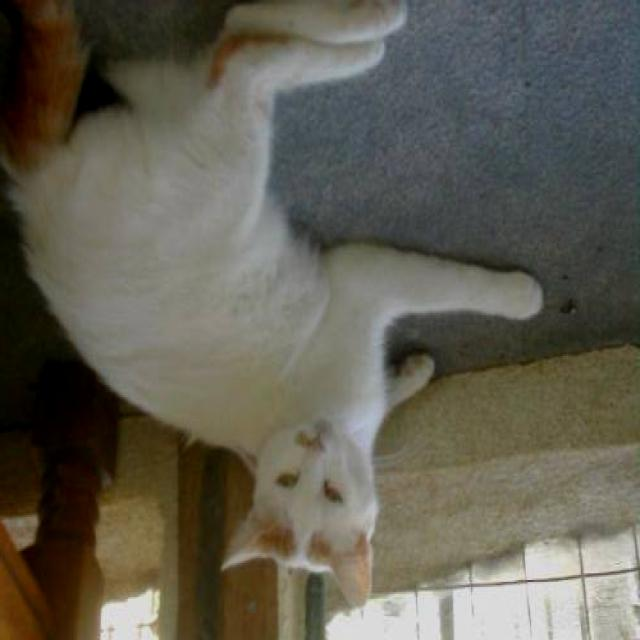Kucing: (0, 31, 617, 602)
